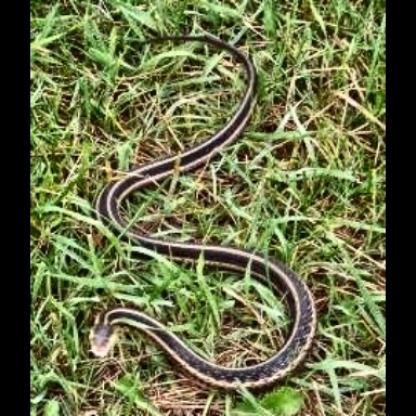Snake: (89, 38, 317, 391)
